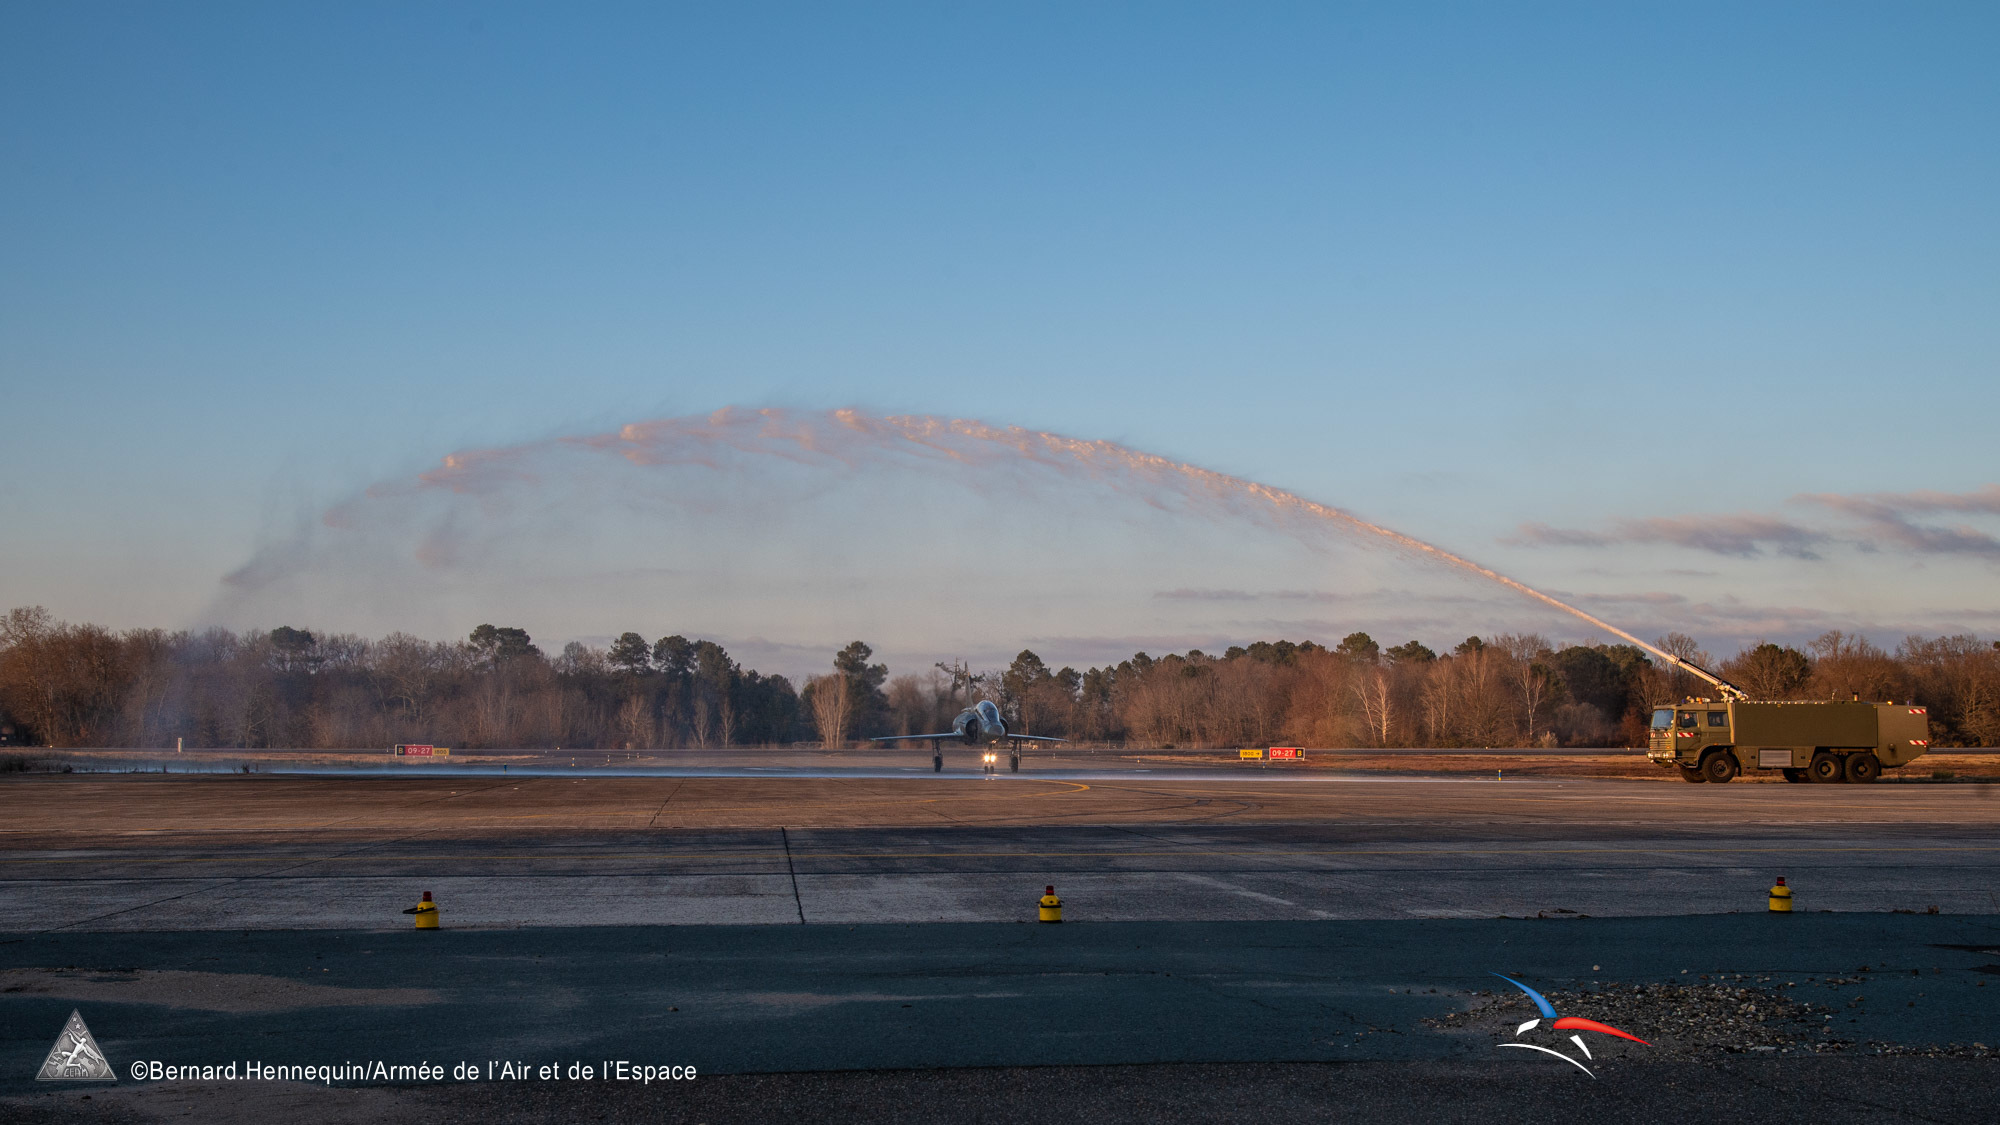Mirage2000: (868, 659, 1071, 775)
